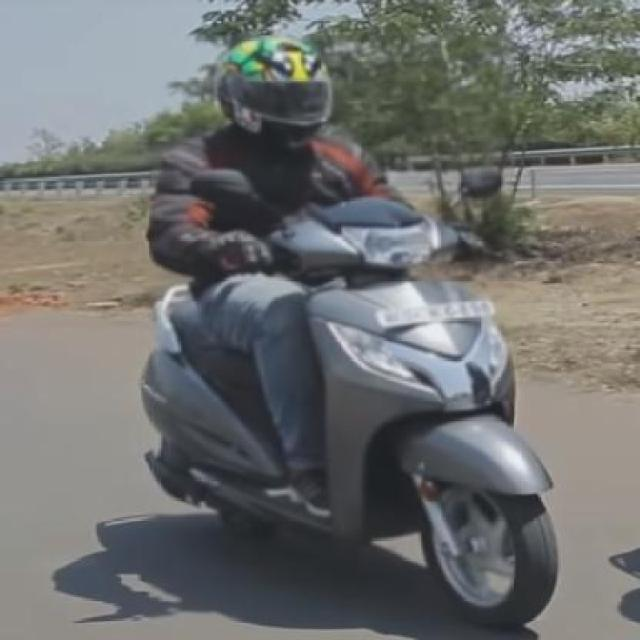helmet: (199, 36, 351, 154)
motorcycle: (102, 25, 588, 626)
